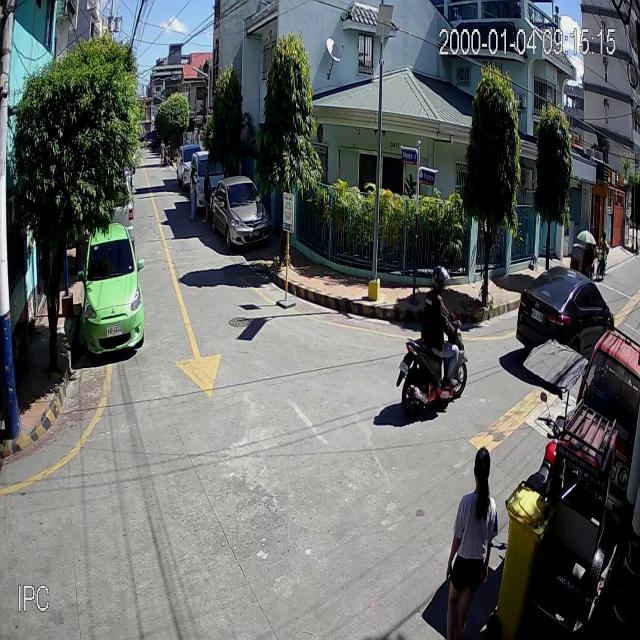standing: (188, 166, 201, 221), (202, 166, 213, 223)
walking: (444, 444, 499, 640), (159, 139, 166, 165)
